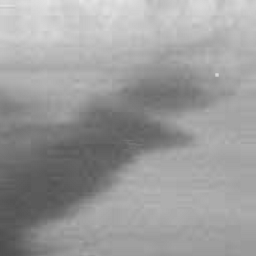Target: (213, 71, 220, 79)
